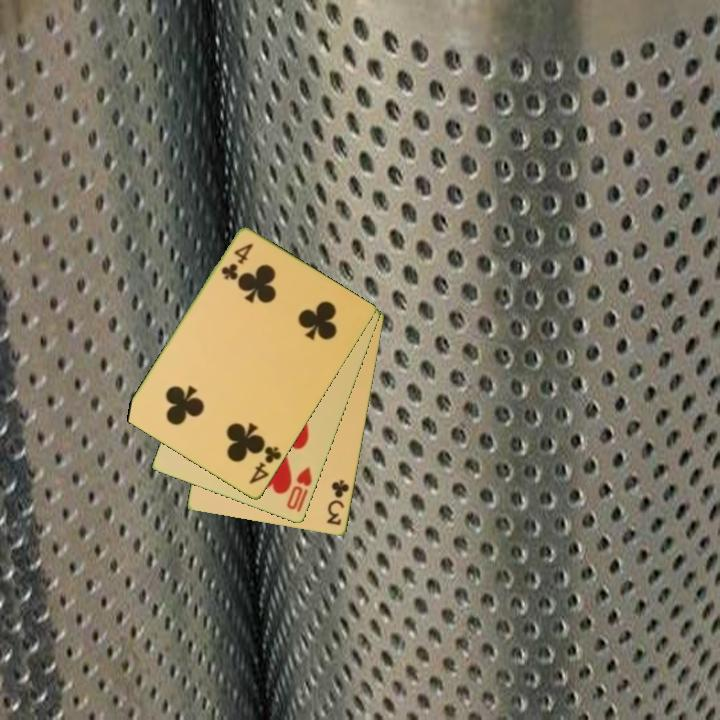10h: (283, 463, 315, 516)
3c: (323, 476, 352, 529)
4c: (245, 443, 285, 487), (218, 240, 256, 284)
